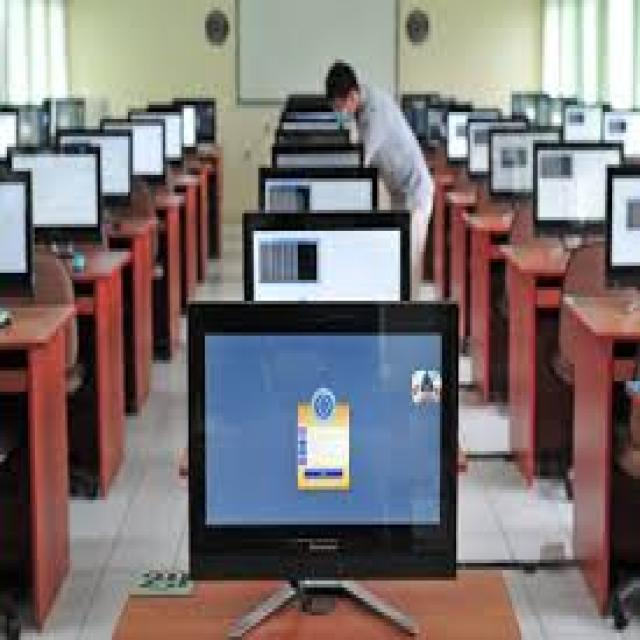komputer: (185, 302, 463, 640)
